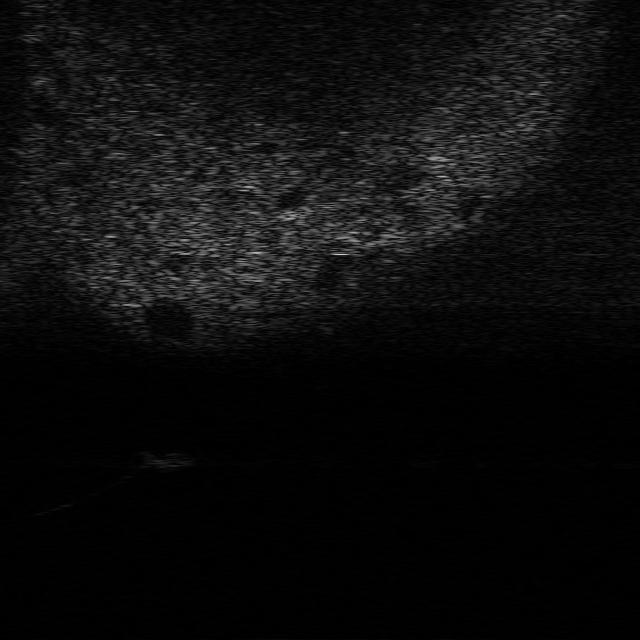cube: (138, 448, 196, 472)
